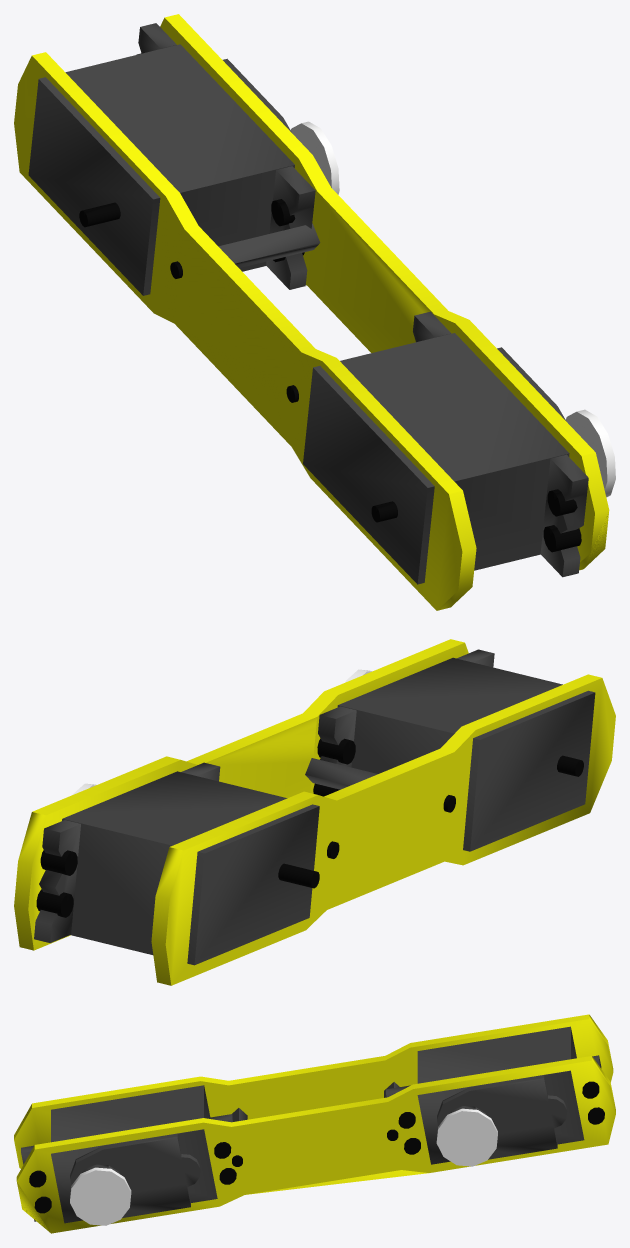
The model's file is arm2.obj.
3 views of the same model, one above another, from view 1: azimuth 30°, elevation 25°; view 2: azimuth 150°, elevation 25°; view 3: azimuth 270°, elevation 25° (orthographic). The views are drawn at different scales.
Parts seen in each view (by area): view 1: box0000063, box0000085, block00078, block00079, block00062, block00084, box0000074, cylinder60, cylinder81; view 2: block00078, box0000085, box0000063, block00079, block00086, block00064, box0000077, cylinder70, cylinder71, cylinder80, cylinder57; view 3: block00079, block00078, box0000085, box0000063, block00087, block00065, cylinder60, cylinder81, cylinder66, cylinder88.
Boxes of the visible parts, x1,y1,x2,y2 form: box0000063: [303, 333, 569, 584]; box0000085: [28, 44, 294, 295]; block00078: [14, 52, 476, 610]; block00079: [160, 14, 609, 570]; block00062: [540, 454, 588, 577]; block00084: [266, 166, 315, 289]; box0000074: [218, 223, 320, 267]; cylinder60: [566, 409, 615, 497]; cylinder81: [291, 121, 339, 194]; block00078: [151, 674, 615, 985]; box0000085: [62, 771, 319, 965]; box0000063: [337, 657, 595, 851]; block00079: [14, 639, 468, 950]; block00086: [34, 820, 80, 942]; block00064: [318, 706, 356, 767]; box0000077: [305, 758, 377, 789]; cylinder70: [36, 889, 73, 917]; cylinder71: [40, 850, 77, 875]; cylinder80: [278, 863, 319, 888]; cylinder57: [317, 738, 355, 764]; block00079: [16, 1056, 615, 1233]; block00078: [14, 1014, 613, 1168]; box0000085: [417, 1026, 584, 1164]; box0000063: [51, 1085, 217, 1223]; block00087: [437, 1075, 557, 1159]; block00065: [70, 1134, 190, 1217]; cylinder60: [70, 1167, 131, 1225]; cylinder81: [436, 1108, 497, 1166]; cylinder66: [181, 1154, 200, 1186]; cylinder88: [548, 1095, 567, 1128].
Bounding box in the file's own units: 0.3043 × 0.3248 × 1.01.
